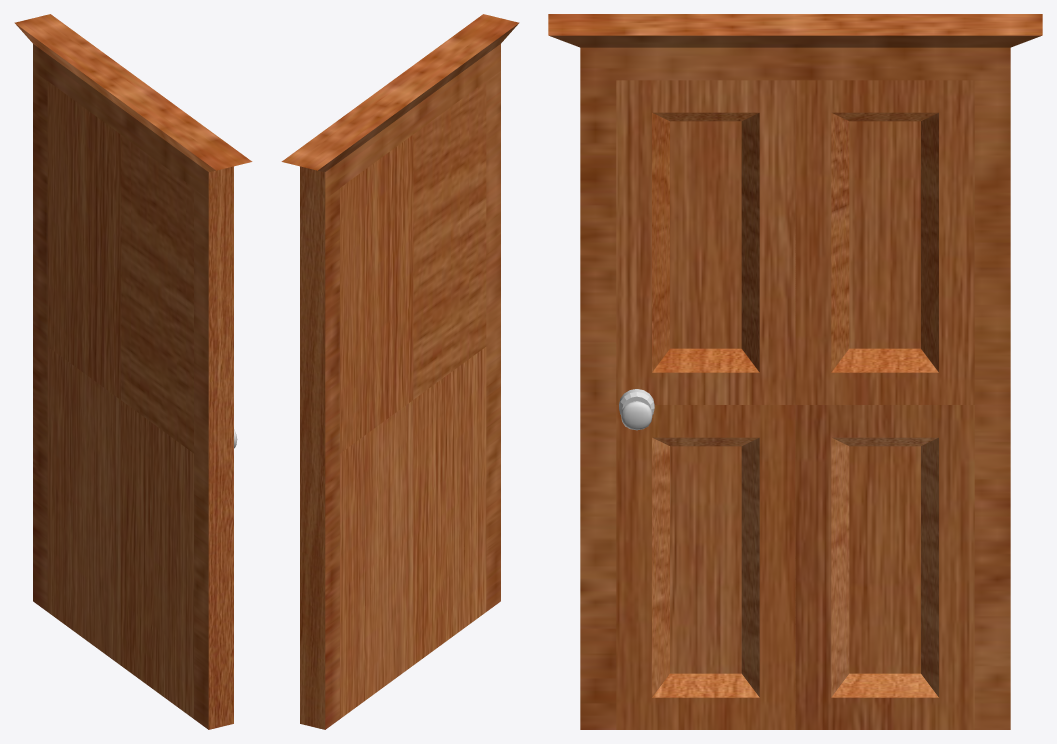
File: Door.fbx
3 renders of one model, left to right at view 1: azimuth 30°, elevation 25°; view 2: azimuth 150°, elevation 25°; view 3: azimuth 270°, elevation 25°, orthographic. The views are drawn at different scales.
Visible parts, largest first — view 1: Door, DoorFrame; view 2: Door, DoorFrame; view 3: Door, DoorFrame, DoorKnob.
Boxes of the visible parts, x1,y1,x2,y2 form: Door: (47, 81, 193, 718); DoorFrame: (14, 14, 252, 729); Door: (340, 81, 486, 718); DoorFrame: (281, 14, 519, 729); Door: (616, 80, 974, 729); DoorFrame: (548, 14, 1042, 729); DoorKnob: (619, 389, 654, 430).
Bounding box in the file's own units: 0.2107 × 2.15 × 1.38.
3 materials, 2 textured.
